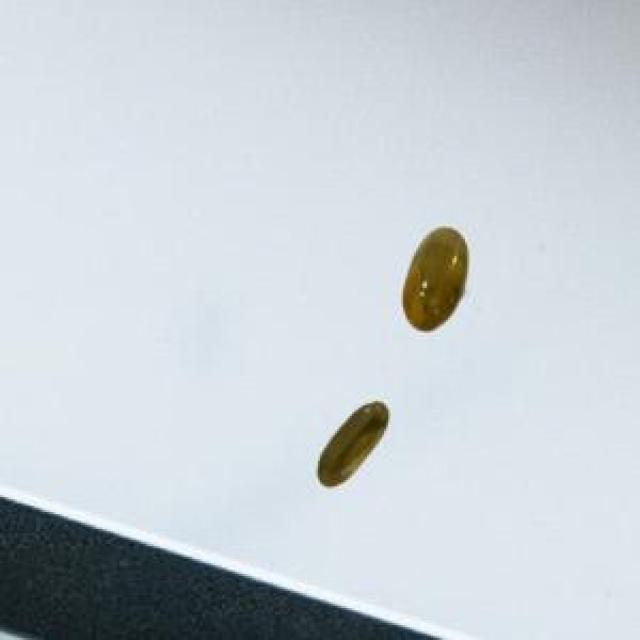Fish_Oil: (386, 205, 483, 346), (300, 392, 405, 504)
